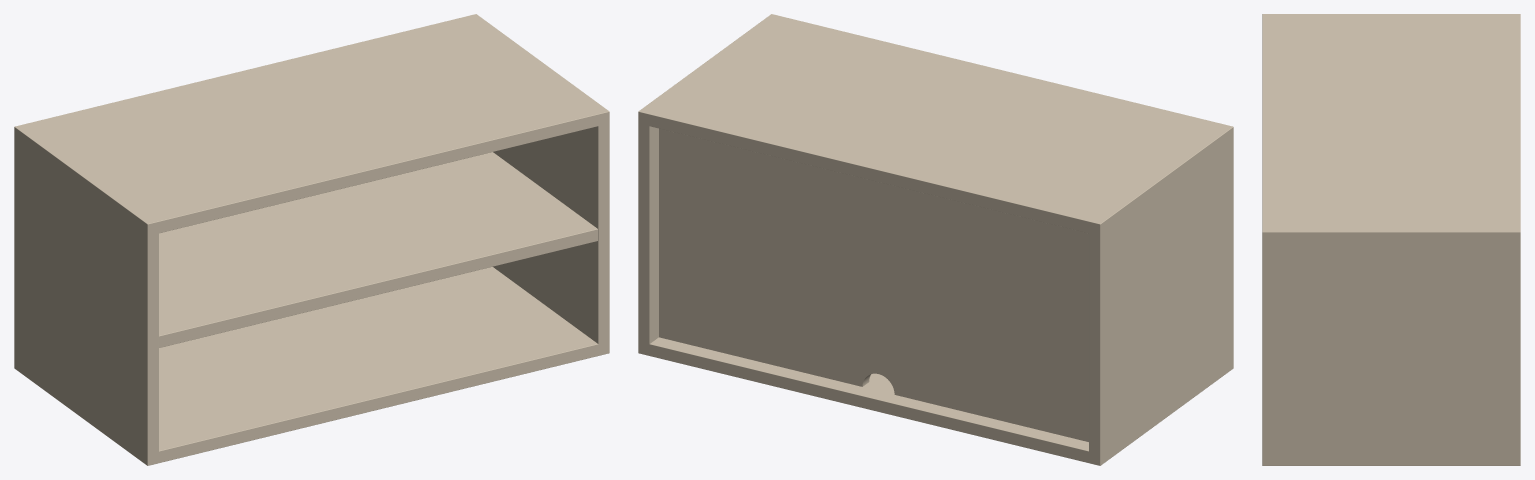
Rendered from MOD-2X1-S-B-AP-AR.glb.
3 renders of one model, left to right at view 1: azimuth 30°, elevation 25°; view 2: azimuth 150°, elevation 25°; view 3: azimuth 270°, elevation 25°, orthographic. The views are drawn at different scales.
Bounding box in the file's own units: 720 × 360 × 360.
